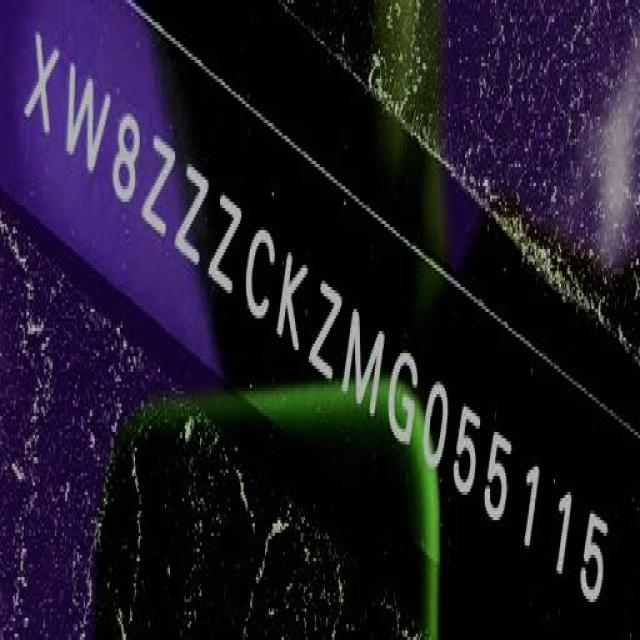0: (412, 364, 458, 479)
1: (541, 475, 582, 597), (509, 449, 552, 564)
5: (572, 501, 619, 613), (444, 396, 489, 506), (483, 434, 516, 526)
8: (104, 102, 146, 210)
C: (238, 217, 286, 327)
G: (380, 336, 430, 453)
K: (270, 248, 317, 365)
M: (336, 308, 396, 430)
W: (60, 55, 118, 182)
X: (17, 21, 70, 159)
Z: (300, 274, 352, 392), (136, 125, 184, 248), (169, 159, 219, 274), (204, 191, 252, 302)
